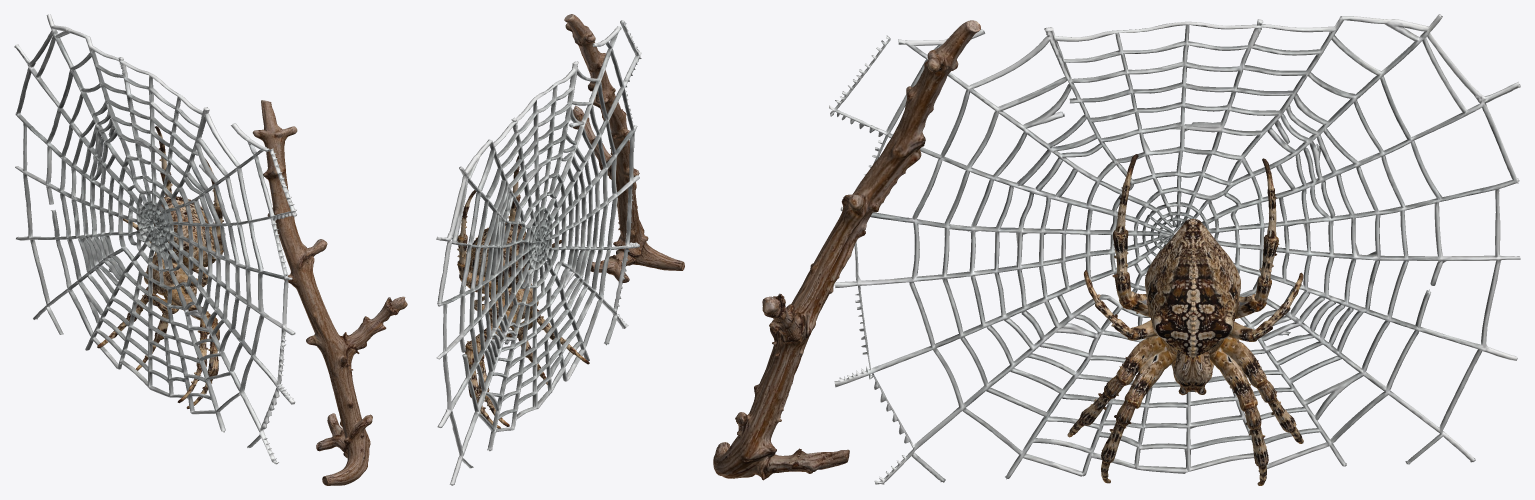
File: arañas_de_telaraña_orbital_araneidae.fbx
3 renders of one model, left to right at view 1: azimuth 30°, elevation 25°; view 2: azimuth 150°, elevation 25°; view 3: azimuth 270°, elevation 25°, orthographic. The views are drawn at different scales.
Parts seen in each view (by area): view 1: tripo_node_56608686, tripo_node_b18ecadb; view 2: tripo_node_56608686, tripo_node_b18ecadb; view 3: tripo_node_56608686, tripo_node_b18ecadb.
Part boxes in pixels (x1,y1,x2,y2): tripo_node_56608686: [14, 14, 296, 464]; tripo_node_b18ecadb: [97, 100, 407, 485]; tripo_node_56608686: [436, 20, 641, 485]; tripo_node_b18ecadb: [457, 14, 684, 428]; tripo_node_56608686: [829, 14, 1520, 484]; tripo_node_b18ecadb: [713, 20, 1303, 485].
Bounding box in the file's own units: 35.66 × 88.55 × 134.
2 materials, 2 textured.
